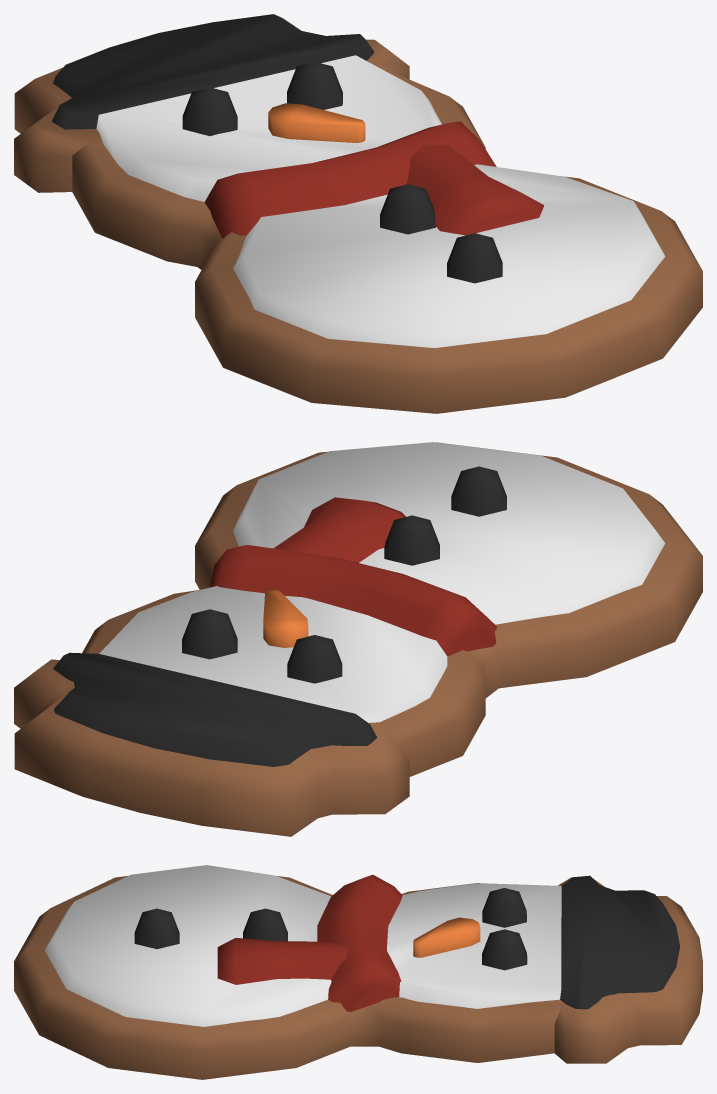
The model's file is CookieSnowman_01.fbx.
The picture shows the model from 3 angles, top to bottom: view 1: azimuth 30°, elevation 25°; view 2: azimuth 150°, elevation 25°; view 3: azimuth 270°, elevation 25°; orthographic projection. The views are drawn at different scales.
Parts seen in each view (by area): view 1: CookieSnowman_01; view 2: CookieSnowman_01; view 3: CookieSnowman_01.
Part boxes in pixels (x1,y1,x2,y2): CookieSnowman_01: [14, 14, 702, 413]; CookieSnowman_01: [14, 442, 702, 836]; CookieSnowman_01: [14, 865, 702, 1079].
Bounding box in the file's own units: 0.0926 × 0.0198 × 0.1509.
